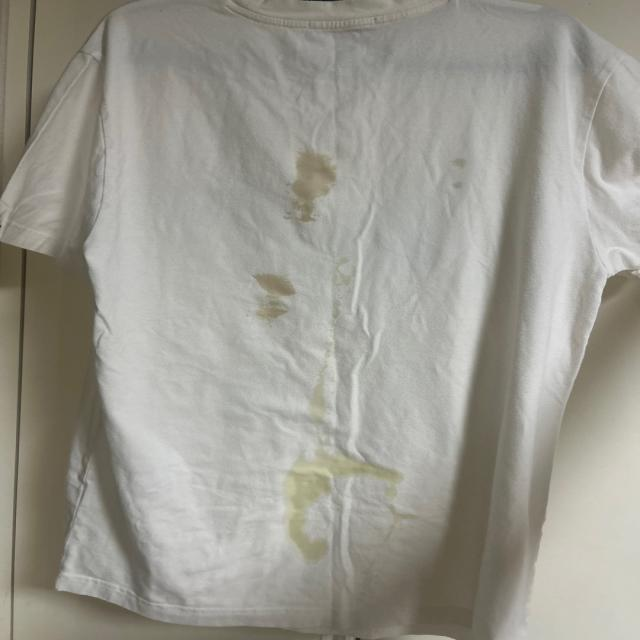stain: (269, 442, 403, 498), (275, 146, 342, 228), (301, 333, 351, 423), (279, 493, 334, 563), (326, 256, 383, 319), (250, 263, 303, 319), (448, 138, 493, 196), (385, 489, 428, 518)
